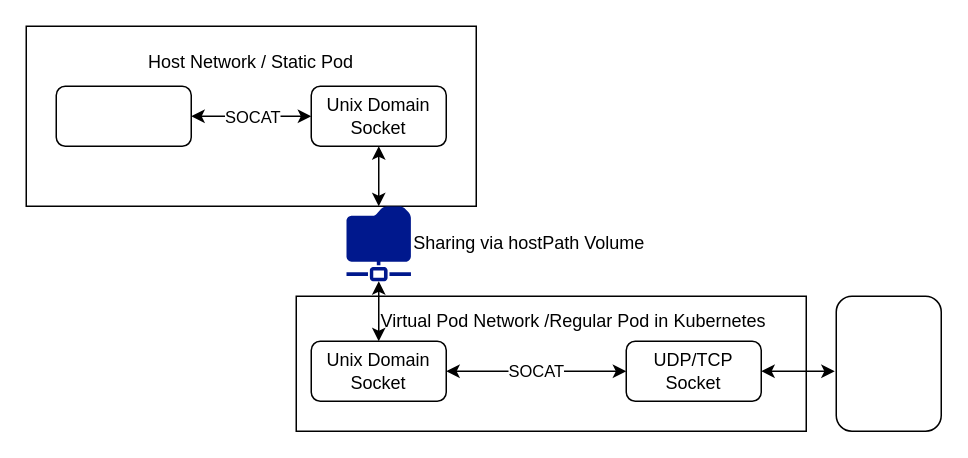
Image size: 968x458. Some labels were removed from this diagram. The shapes that lost their labels are listed below. From the top down, each one's centre as x and y in pixels, then its label:
At (x=123, y=115): "UDP/TCP Socket on Localhost".
At (x=888, y=363): "Kubernetes Endpoint / Service".
